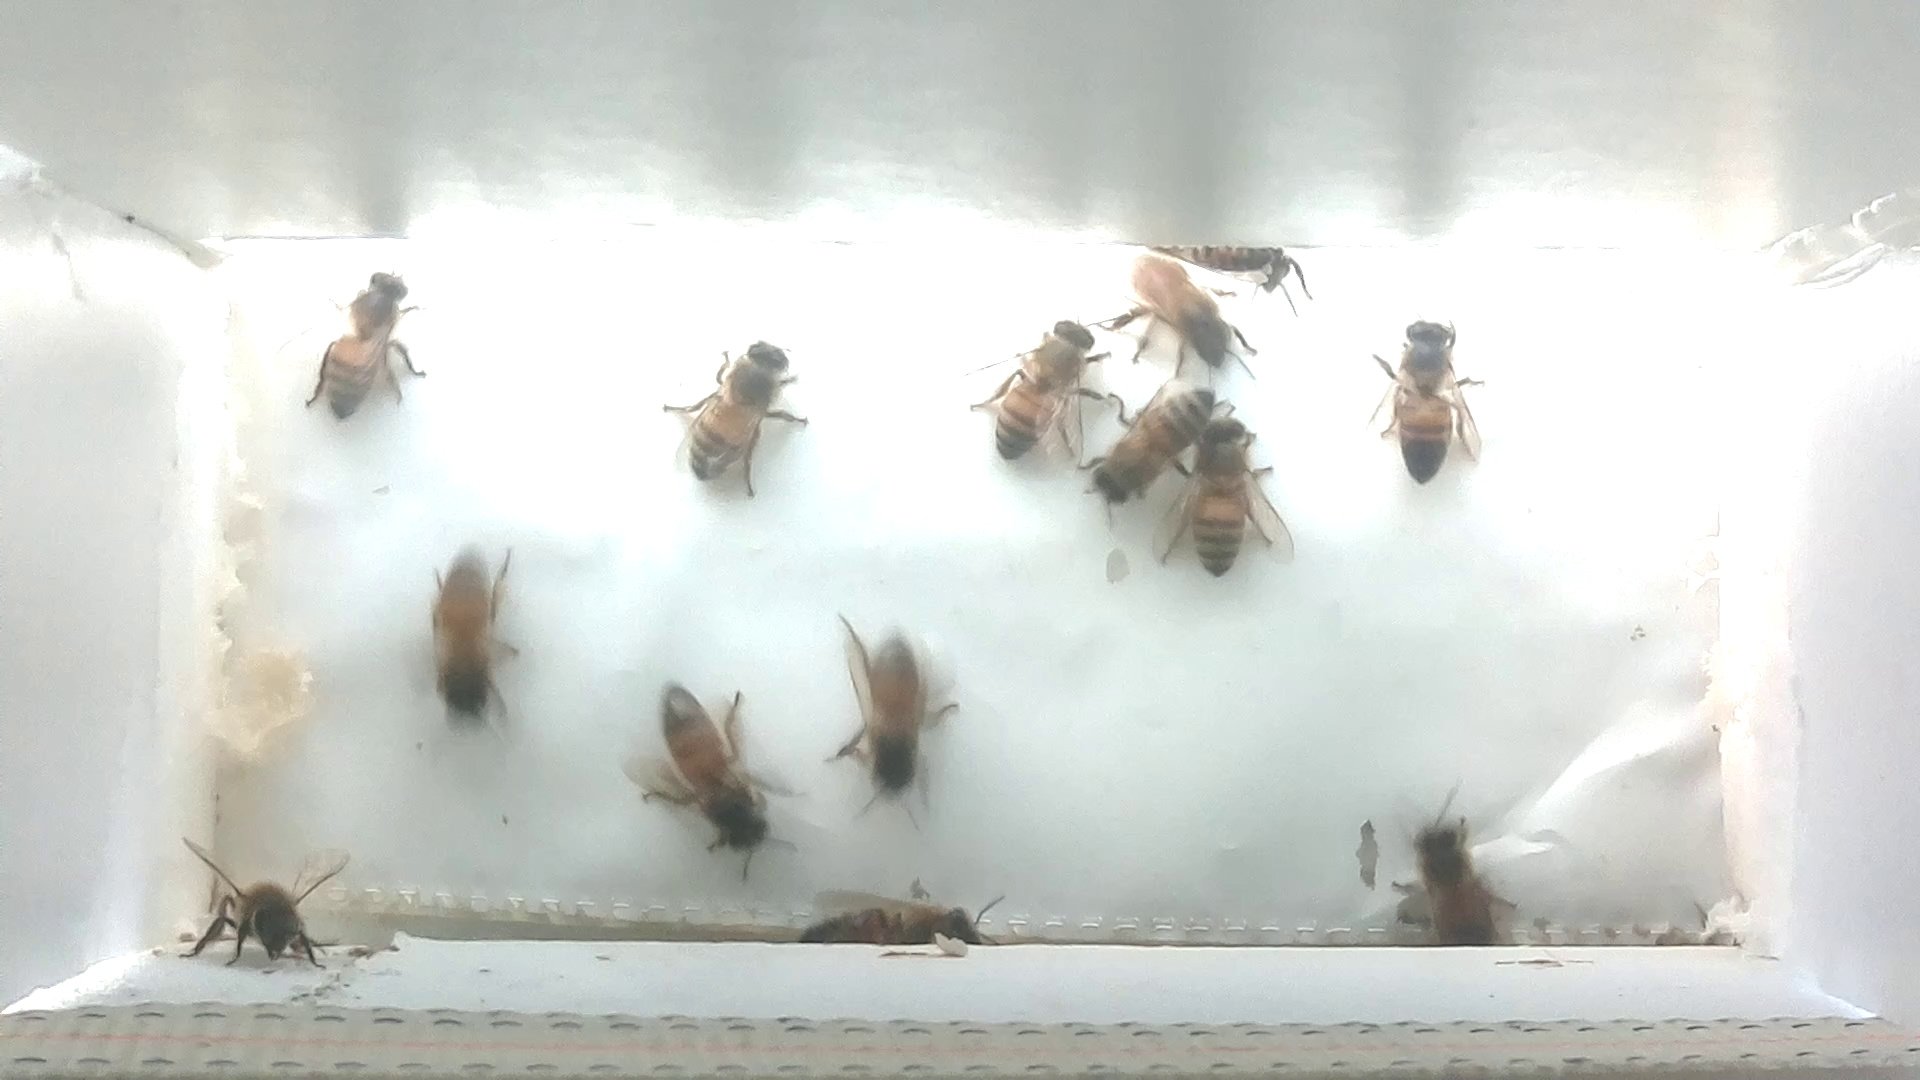bee: (611, 665, 814, 886), (819, 611, 971, 833), (658, 315, 818, 508), (398, 531, 545, 738), (284, 249, 439, 440), (960, 298, 1118, 480), (178, 823, 361, 978), (1356, 298, 1495, 500), (1381, 779, 1519, 967), (1156, 407, 1296, 592), (1113, 243, 1269, 393), (1076, 363, 1221, 520), (781, 872, 1014, 957), (1150, 225, 1325, 318)
